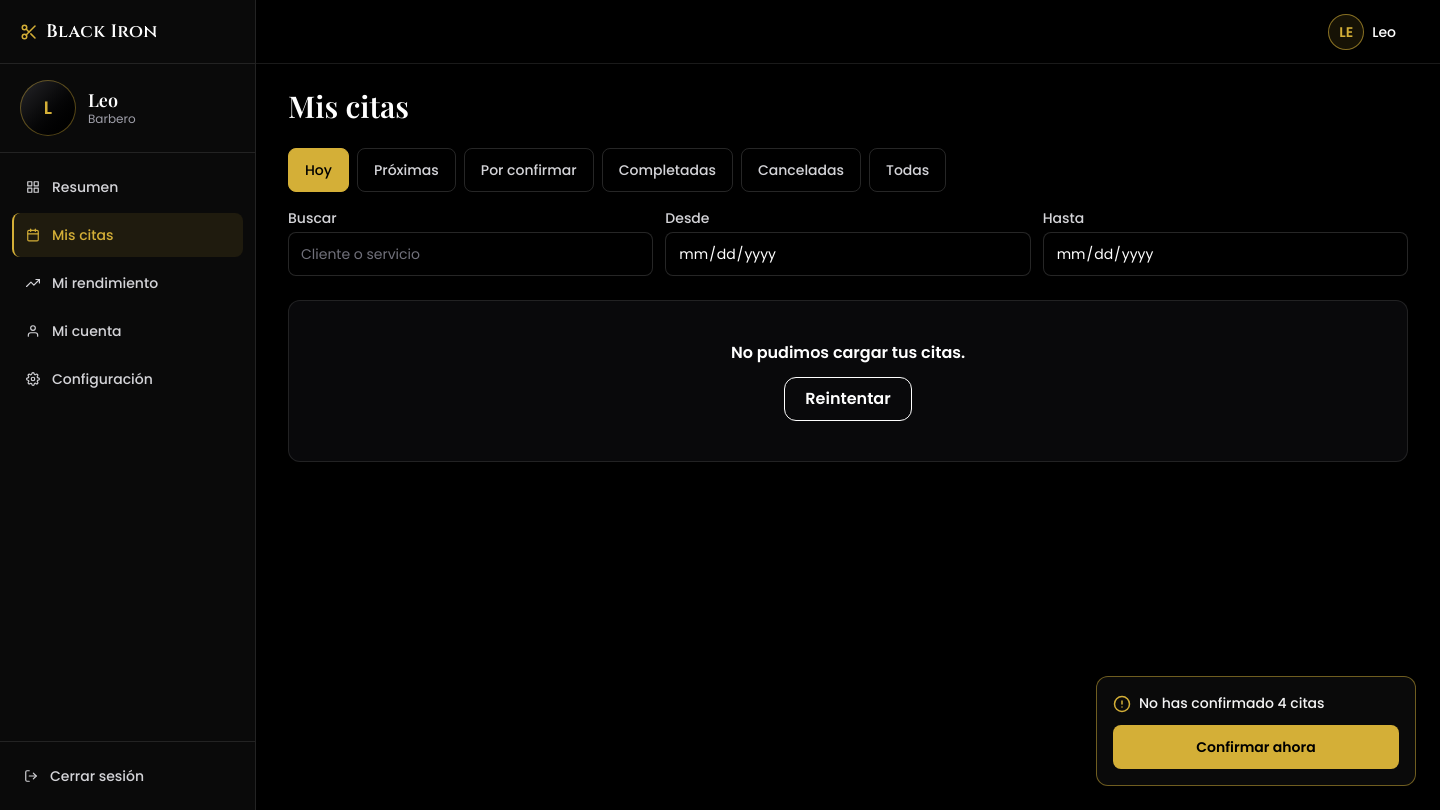
Test case: /panel/citas: estados › error: ErrorCarga con "Reintentar" que vuelve a pedir la misma página
The width and height of the screenshot is (1440, 810).
Click the button "Reintentar". click: (848, 399)
box: [784,377,912,421]
(page scrolled)
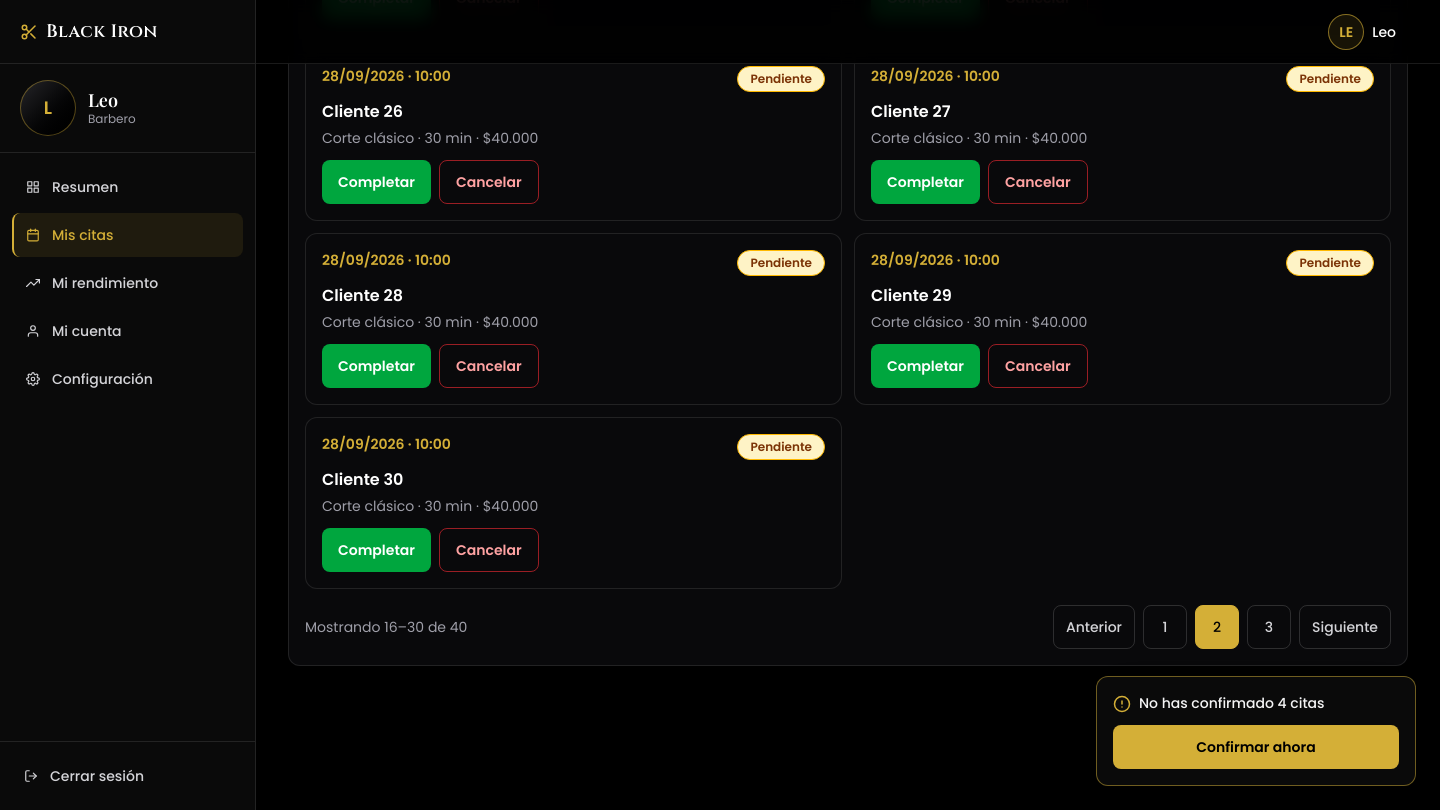
Expected: the text "Mostrando 16–30 de 40" is shown, [305,617,467,637]
